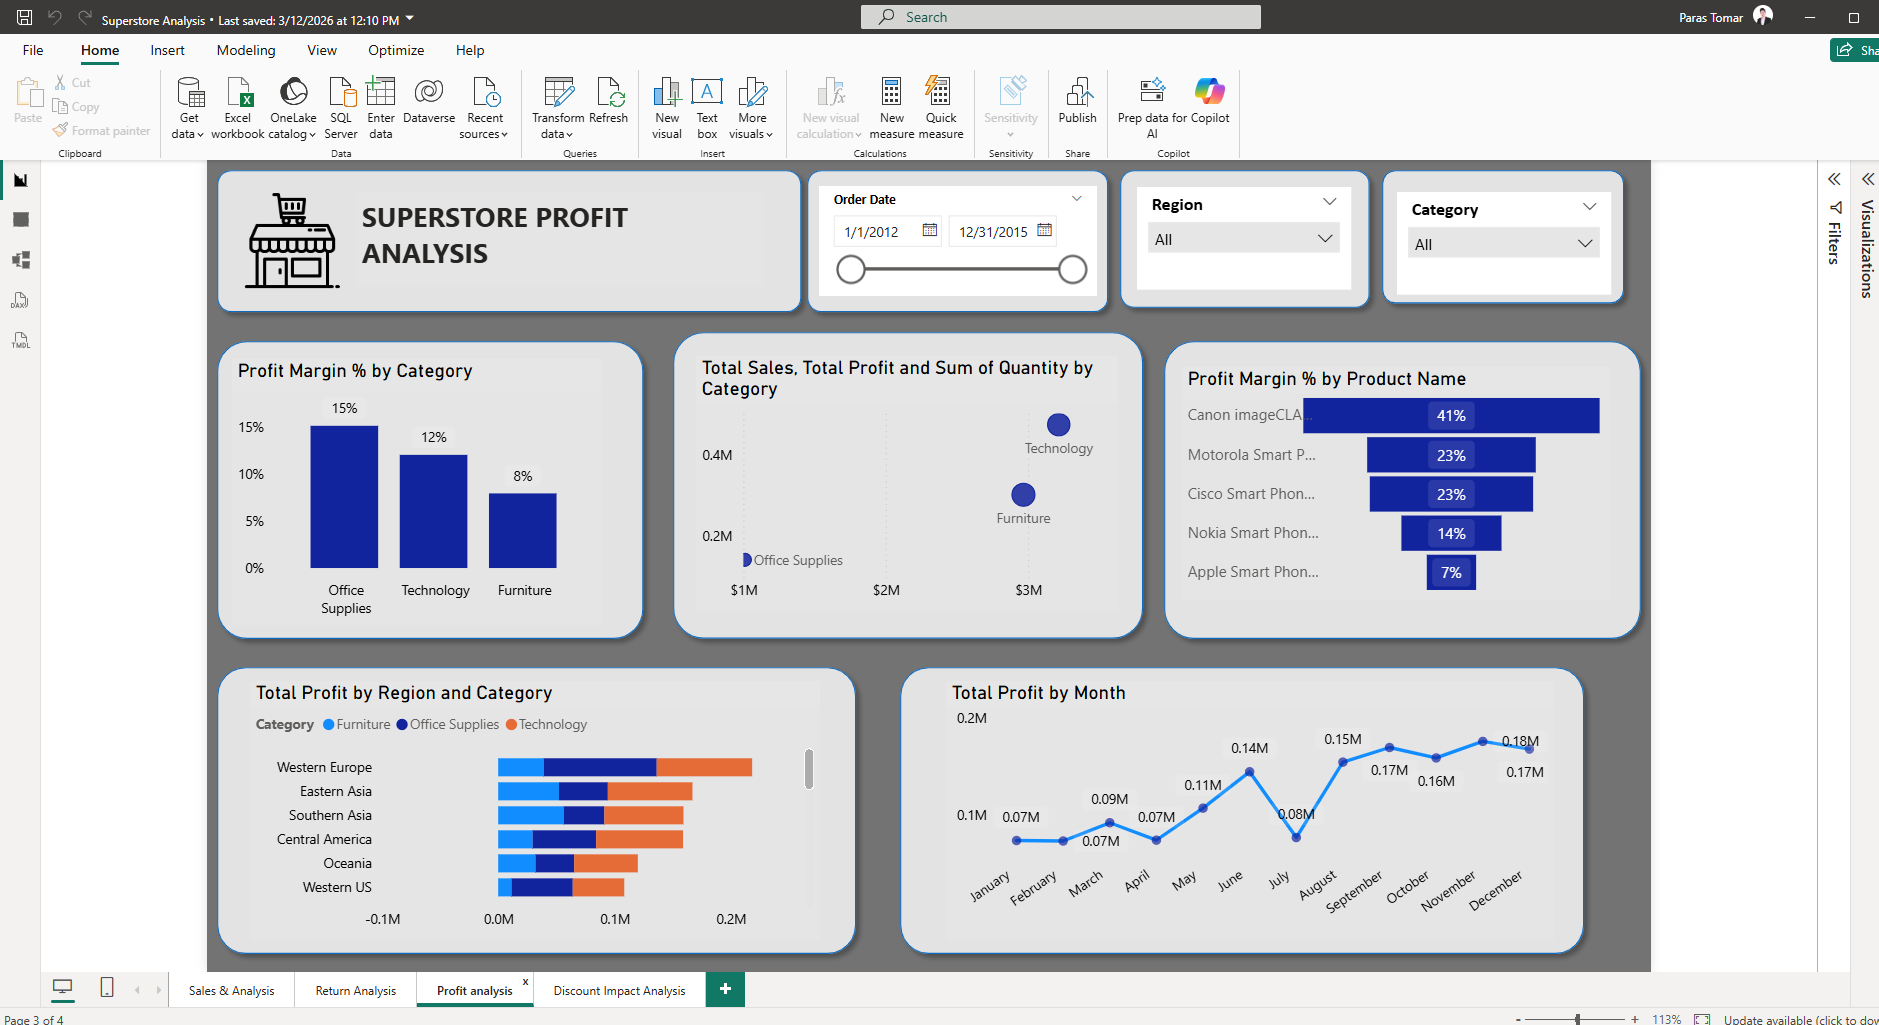

The dashboard page shown, as its layout file describes it:
{"tool":"powerbi","page":{"name":"Profit analysis","canvas":[1280,720],"ordinal":2},"visuals":[{"type":"shape","box":[0,0,535.9,144],"z":0},{"type":"textbox","box":[132.3,28.2,361.8,83.6],"z":1000},{"type":"shape","box":[800.5,0,239.3,140.1],"z":2000},{"type":"shape","box":[523.3,0,285,144],"z":3000},{"type":"slicer","fields":{"Values":["Order Table.Region"]},"box":[824.8,24.3,189.7,91.4],"z":4000},{"type":"slicer","fields":{"Values":["Order Table.Category"]},"box":[1055.3,38.9,187.7,72.9],"z":5000},{"type":"slicer","fields":{"Values":["Order Table.Order Date"]},"box":[542.7,23.3,246.1,97.3],"z":6000},{"type":"shape","box":[1032.9,0,232.5,136.2],"z":7000},{"type":"slicer","fields":{"Values":["Order Table.Category"]},"box":[1055.3,28.2,189.7,91.4],"z":8000},{"type":"shape","box":[0,151.7,395.9,282.1],"z":9000},{"type":"columnChart","fields":{"Category":["Order Table.Category"],"Y":["Order Table.Profit Margin %"]},"box":[38.1,169.4,328.1,235.9],"z":10000},{"type":"shape","box":[404.6,144,434.8,289.8],"z":11000},{"type":"shape","box":[839.4,151.7,440.6,282.1],"z":12000},{"type":"shape","box":[0,440.6,584.6,272.3],"z":13000},{"type":"clusteredBarChart","title":"Total Profit by Category","fields":{"Category":["Order Table.Category"],"Y":["Order Table.Total Profit"]},"box":[433.8,174.1,374.5,225.7],"z":14000},{"type":"funnel","fields":{"Category":["Order Table.Product Name"],"Y":["Order Table.Profit Margin %"]},"box":[864.7,183.8,380.3,206.2],"z":15000},{"type":"barChart","fields":{"Category":["Order Table.Region"],"Y":["Order Table.Total Profit"],"Series":["Order Table.Category"]},"box":[37.9,462,504.8,229.5],"z":16000},{"type":"shape","box":[606,440.6,624.4,272.3],"z":17000},{"type":"lineChart","title":"Total Profit by Month (All Years)","fields":{"Category":["Order Table.Month"],"Y":["Order Table.Total Profit"]},"box":[655.6,462,538.8,229.5],"z":18000},{"type":"image","box":[22.4,23.3,107,97.3],"z":19000}]}

Visuals, with their boxes on the page's 1280x720 design canvas (x1, y1, x2, y2). These are canvas units, not pixel positions in the 1879x1025 screenshot, which may show the page scaled, cropped or inside an application window:
shape: (0,0,536,144)
textbox: (132,28,494,112)
shape: (800,0,1040,140)
shape: (523,0,808,144)
slicer - Order Table.Region: (825,24,1014,116)
slicer - Order Table.Category: (1055,39,1243,112)
slicer - Order Table.Order Date: (543,23,789,121)
shape: (1033,0,1265,136)
slicer - Order Table.Category: (1055,28,1245,120)
shape: (0,152,396,434)
columnChart - Order Table.Category x Order Table.Profit Margin %: (38,169,366,405)
shape: (405,144,839,434)
shape: (839,152,1280,434)
shape: (0,441,585,713)
"Total Profit by Category" clusteredBarChart: (434,174,808,400)
funnel - Order Table.Product Name x Order Table.Profit Margin %: (865,184,1245,390)
barChart - Order Table.Region x Order Table.Total Profit: (38,462,543,692)
shape: (606,441,1230,713)
"Total Profit by Month (All Years)" lineChart: (656,462,1194,692)
image: (22,23,129,121)
